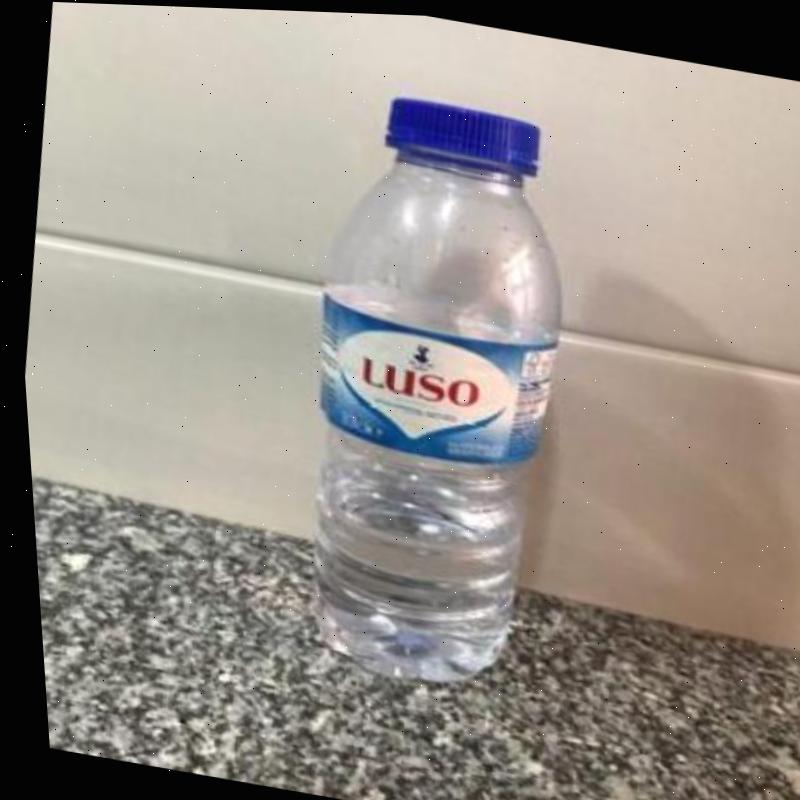botella: (253, 77, 607, 704)
